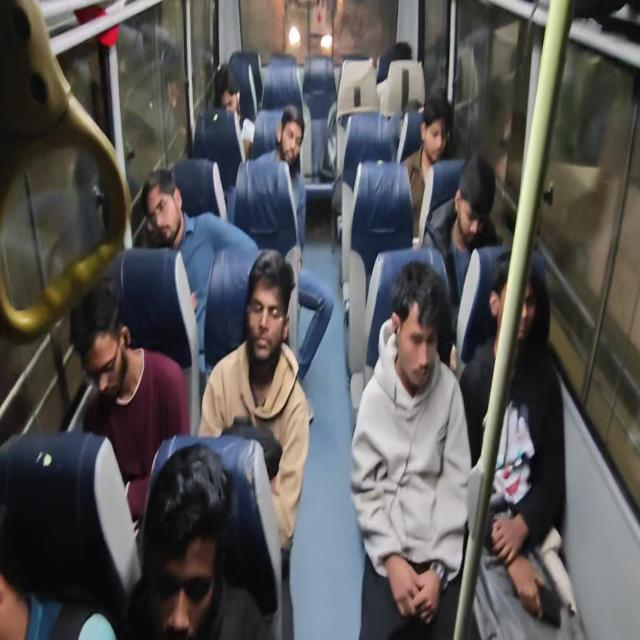person: (135, 440, 234, 640), (384, 254, 454, 411), (63, 280, 135, 407), (486, 246, 550, 364), (243, 243, 293, 387), (450, 153, 498, 245), (142, 162, 186, 255), (276, 106, 315, 191), (207, 59, 244, 125), (423, 89, 453, 168), (386, 39, 416, 79), (402, 89, 424, 126)
